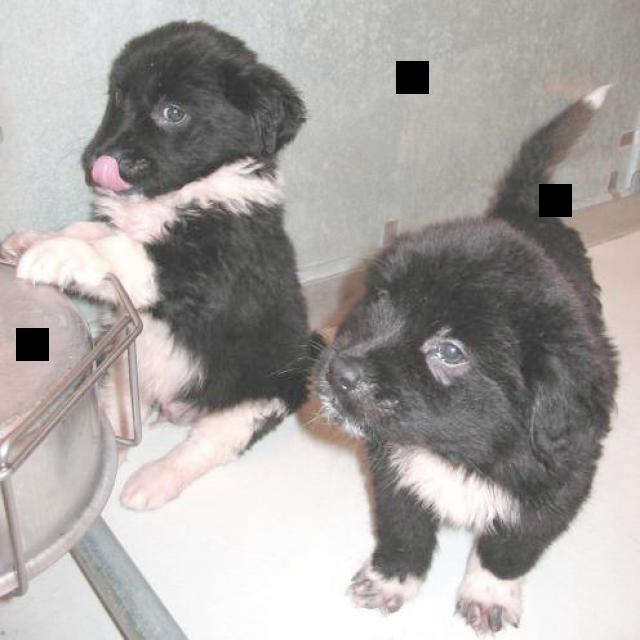puppy-dog: (308, 79, 624, 632), (1, 17, 316, 512)
